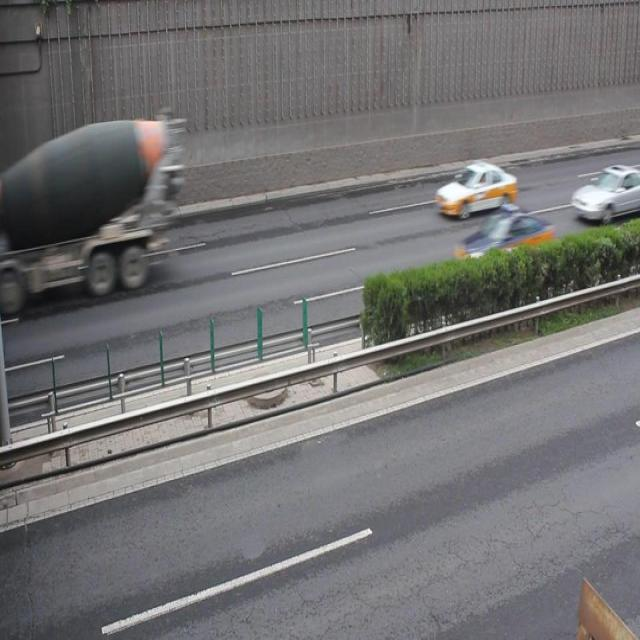bus: (1, 117, 164, 304)
car: (452, 209, 553, 280), (434, 159, 516, 219), (569, 164, 640, 224)
